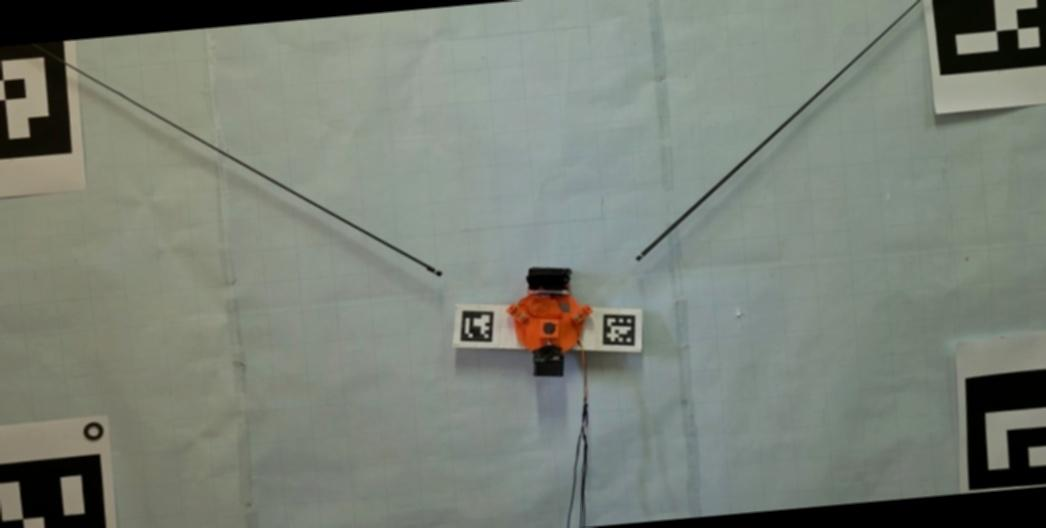robot: (506, 267, 593, 378)
